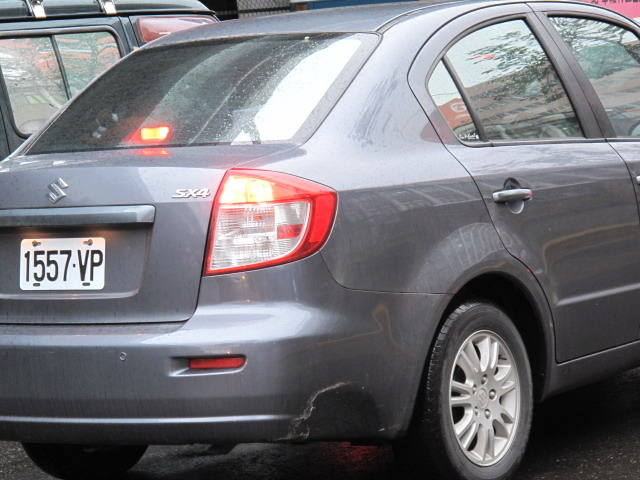plate: (15, 235, 108, 294)
